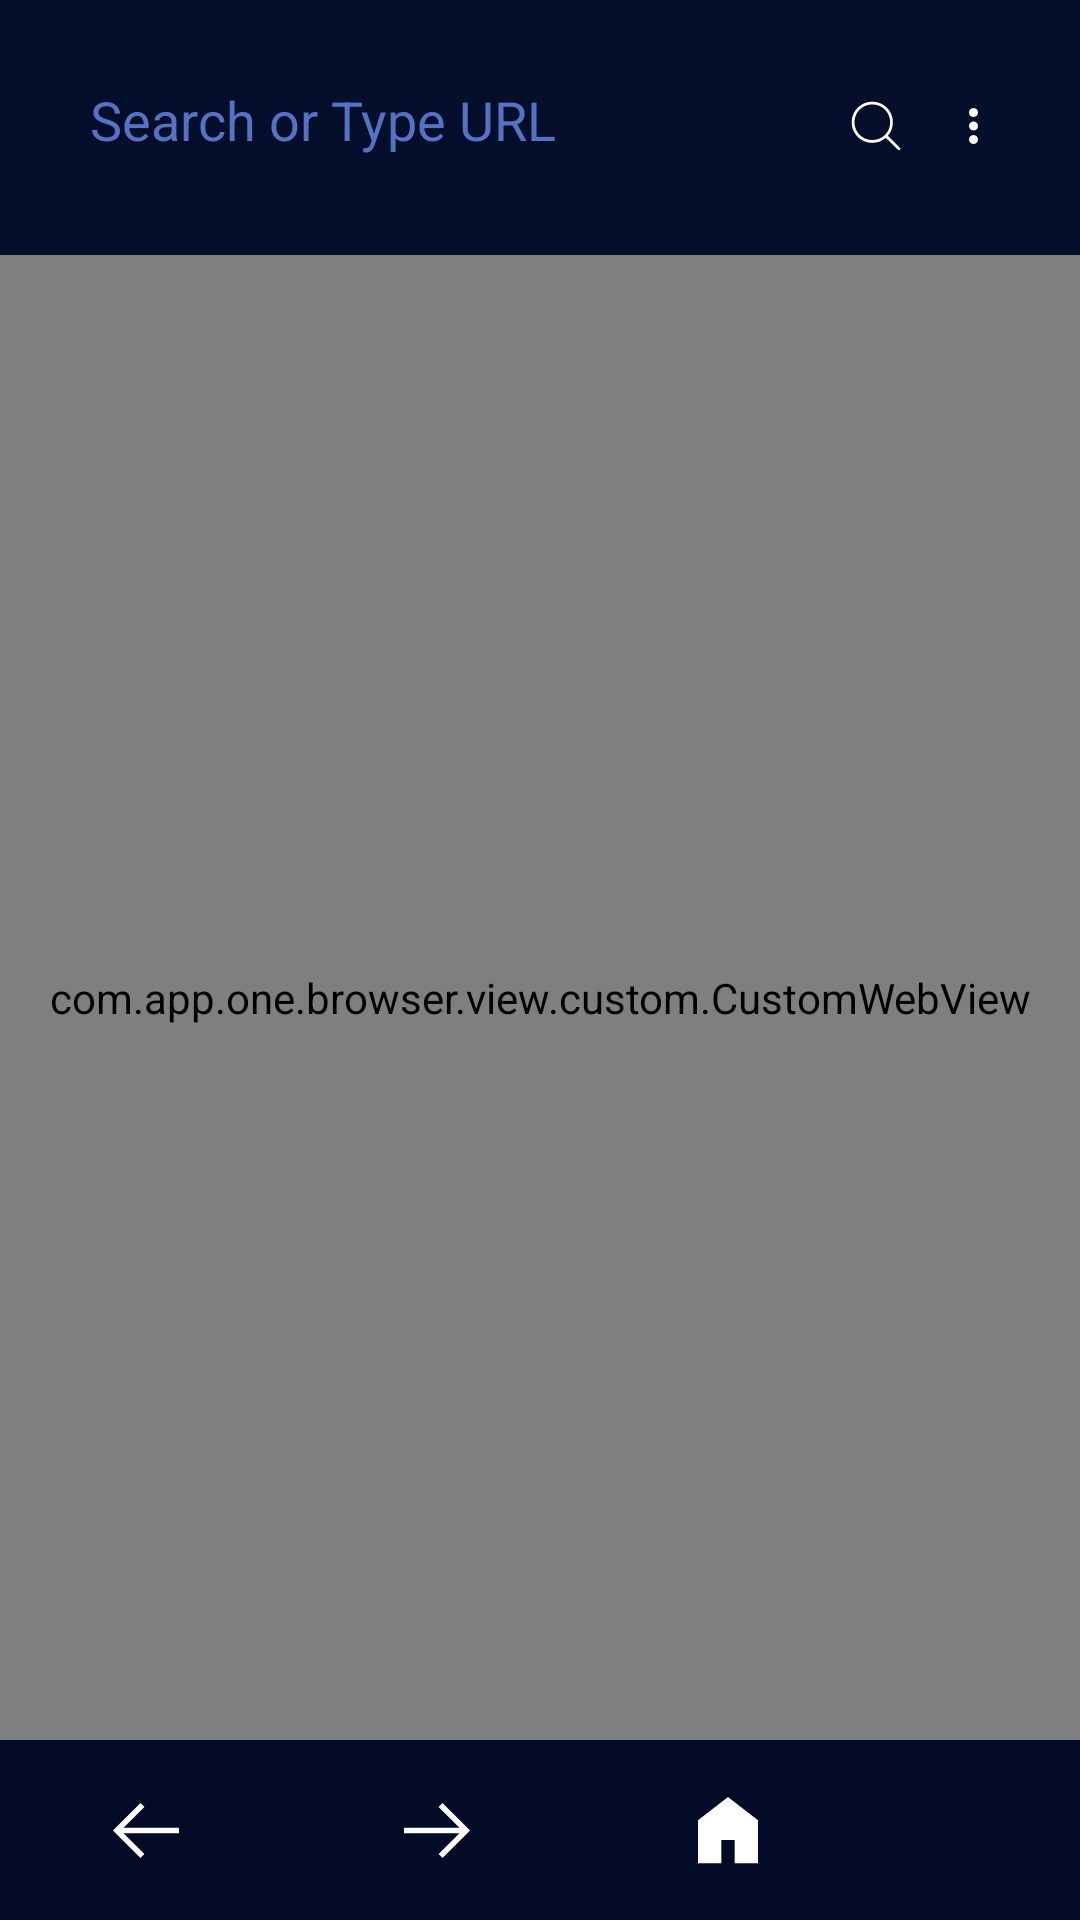

Screen size 1080px×1920px. Icon name, then its box in pixels as (x1, y1, x2, y2):
forward: (404, 1803, 470, 1858)
home: (698, 1797, 758, 1864)
more: (969, 108, 978, 144)
return: (113, 1803, 179, 1858)
